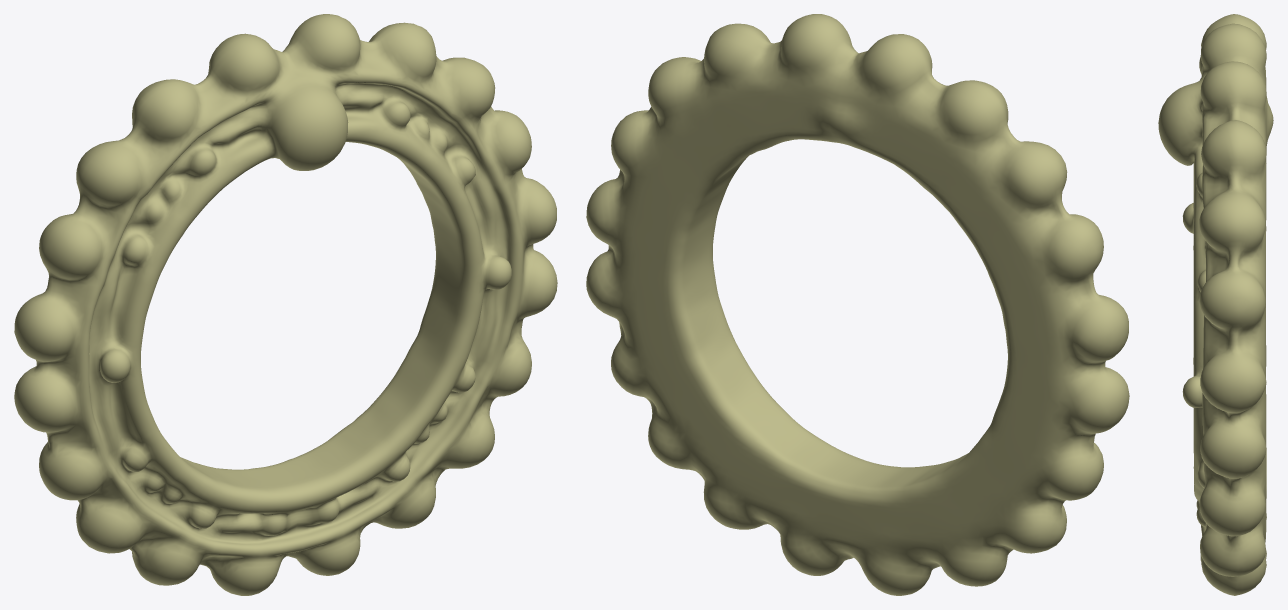
Rendered from nosering-ayesha.glb.
3 views of the same model, side by side, from view 1: azimuth 30°, elevation 25°; view 2: azimuth 150°, elevation 25°; view 3: azimuth 270°, elevation 25° (orthographic). The views are drawn at different scales.
Visible parts, largest first — view 1: model; view 2: model; view 3: model.
Part boxes in pixels (x1=…): model: x1=14, y1=14, x2=557, y2=595; model: x1=586, y1=14, x2=1129, y2=595; model: x1=1158, y1=14, x2=1273, y2=595.
Bounding box in the file's own units: 1.9 × 1.9 × 0.382.
